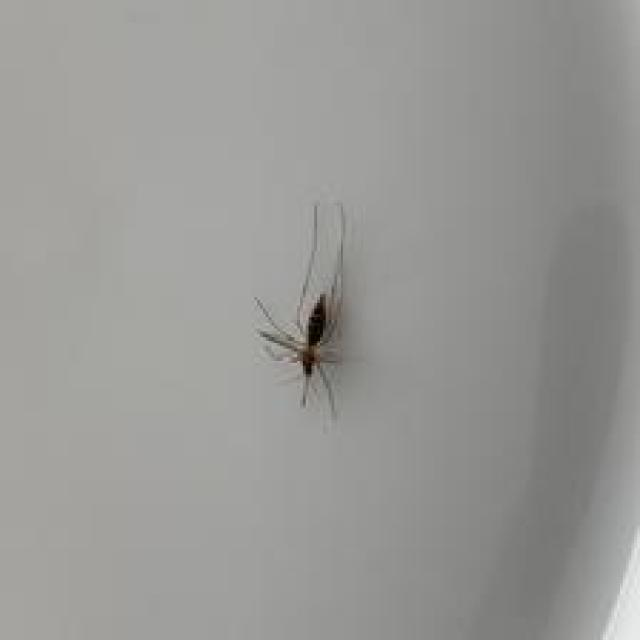Culex: (252, 198, 348, 418)
